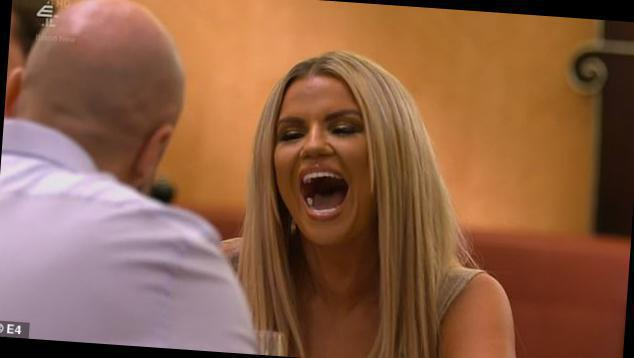Drunk: (276, 80, 376, 241)
